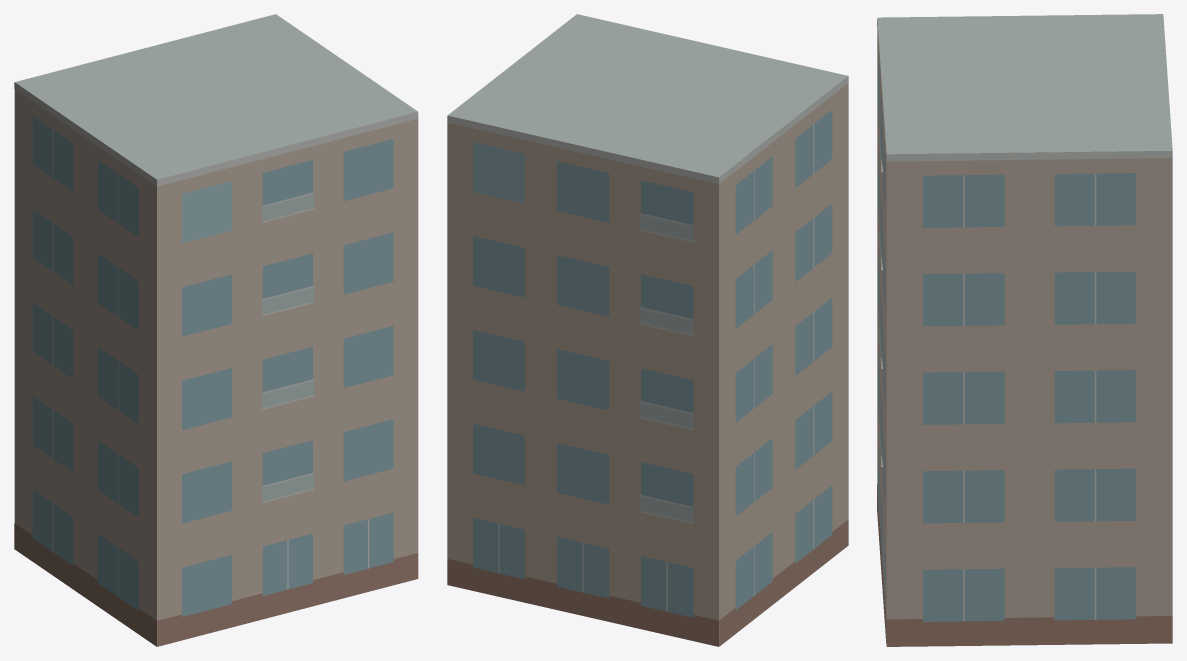
File: survey-upis-32542027.glb
3 renders of one model, left to right at view 1: azimuth 30°, elevation 25°; view 2: azimuth 150°, elevation 25°; view 3: azimuth 270°, elevation 25°, orthographic. The views are drawn at different scales.
Visible parts, largest first — view 1: survey-upis-32542027.tmp; view 2: survey-upis-32542027.tmp; view 3: survey-upis-32542027.tmp.
Part boxes in pixels (x1,y1,x2,y2): survey-upis-32542027.tmp: (14,14,418,646); survey-upis-32542027.tmp: (447,14,848,646); survey-upis-32542027.tmp: (877,14,1172,646).
Size of the model in its own units: 10.08 by 16.5 by 8.98.
